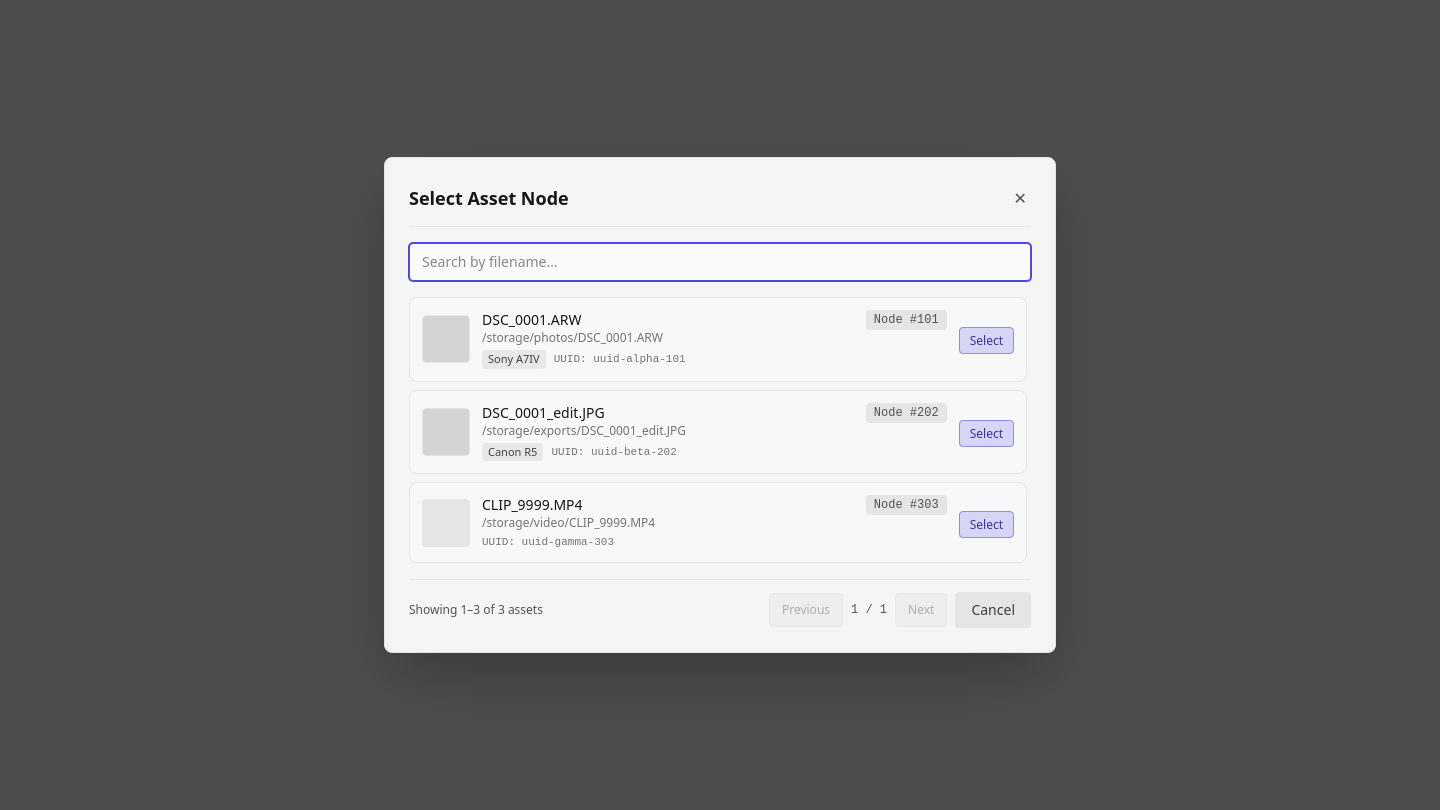
Test: NodePickerModal › searches server-side by filename instead of filtering the loaded page
Check: the text "DSC_0001.ARW" is shown, box [482, 310, 581, 330]
Type "CLIP" into the field with placeholder "Search by filename…" at [720, 262], box [409, 243, 1031, 281]
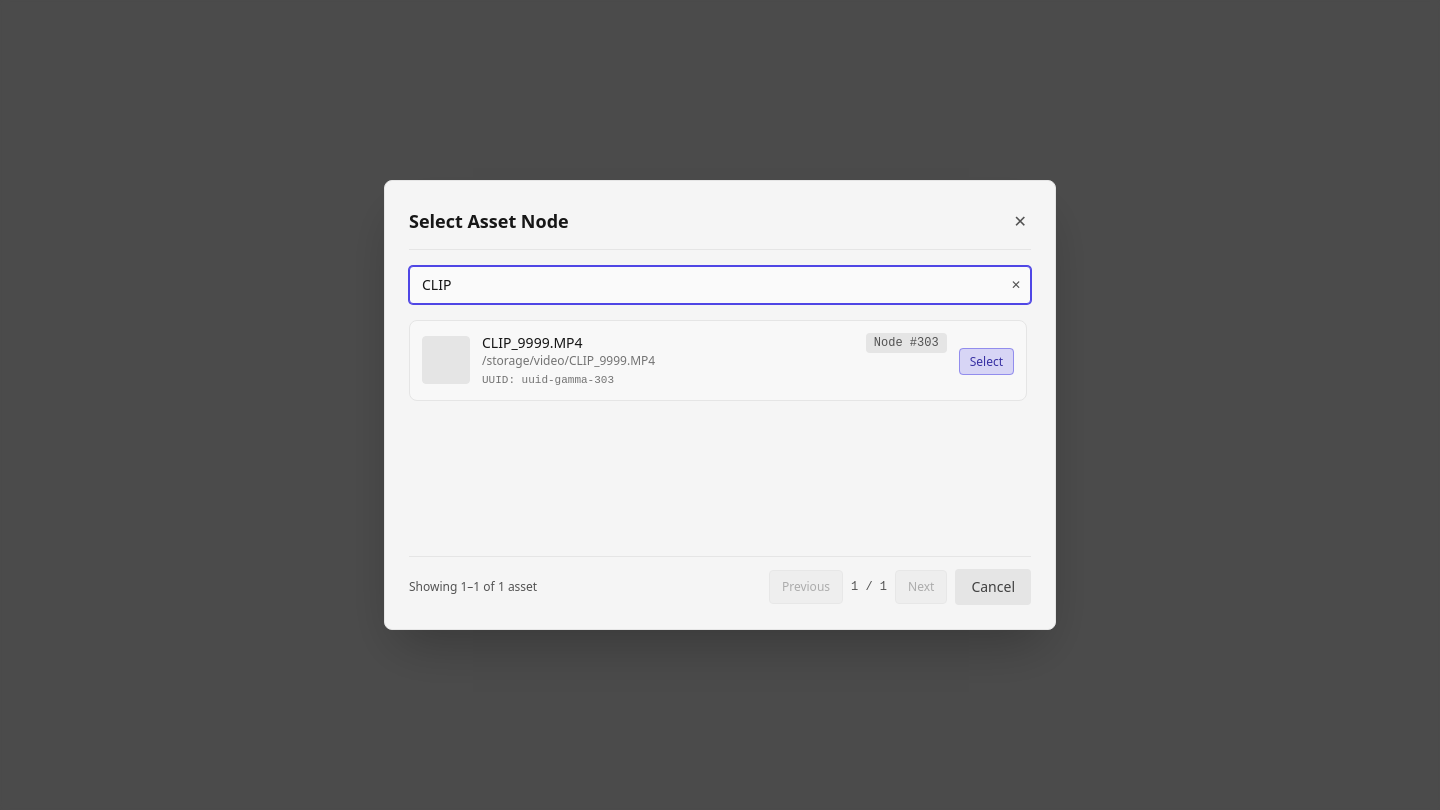
Check: the button "DSC_0001.ARW" is gone
Check: the button "DSC_0001_edit.JPG" is gone
Check: the text "Showing 1–1 of 1 asset" is shown, box [409, 578, 537, 595]
